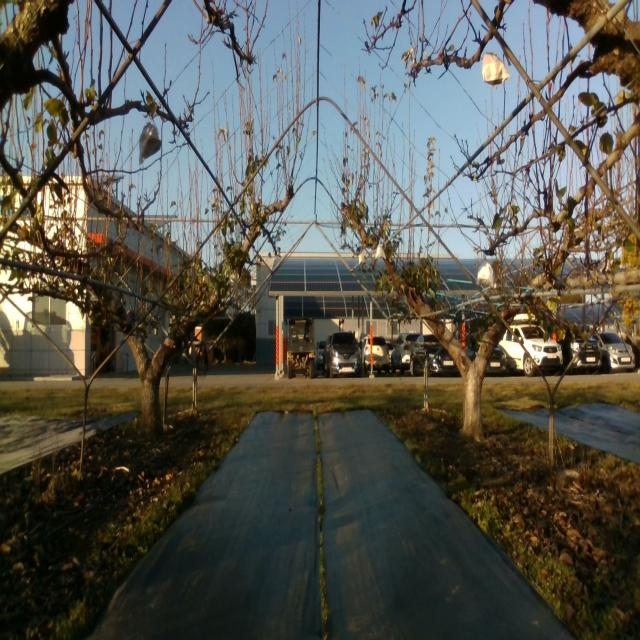pearbags: (482, 50, 512, 85), (140, 121, 162, 165), (477, 257, 496, 289)
